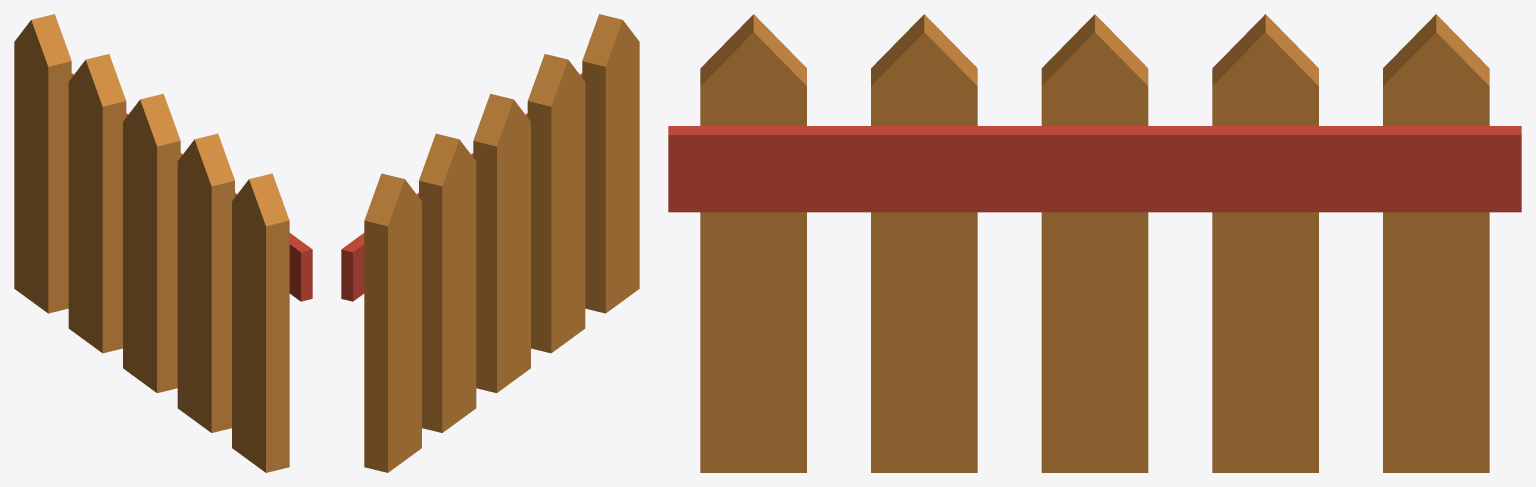
The model's file is Fence.fbx.
The picture shows the model from 3 angles, left to right: view 1: azimuth 30°, elevation 25°; view 2: azimuth 150°, elevation 25°; view 3: azimuth 270°, elevation 25°; orthographic projection. The views are drawn at different scales.
Visible parts, largest first — view 1: Cube.008, Cube, Cube.011, Cube.002, Cube.001; view 2: Cube.002, Cube.011, Cube, Cube.001, Cube.008; view 3: Cube.001, Cube.002, Cube.008, Cube, Cube.011.
Part boxes in pixels (left/top/right/bottom): Cube.008: left=232, top=173, right=312, bottom=472; Cube: left=68, top=54, right=128, bottom=353; Cube.011: left=177, top=133, right=236, bottom=432; Cube.002: left=14, top=14, right=73, bottom=313; Cube.001: left=123, top=93, right=182, bottom=393; Cube.002: left=341, top=173, right=421, bottom=472; Cube.011: left=525, top=54, right=585, bottom=353; Cube: left=417, top=133, right=476, bottom=432; Cube.001: left=471, top=93, right=530, bottom=393; Cube.008: left=580, top=14, right=639, bottom=313; Cube.001: left=1009, top=14, right=1180, bottom=472; Cube.002: left=1351, top=14, right=1521, bottom=472; Cube.008: left=668, top=14, right=838, bottom=472; Cube: left=1180, top=14, right=1350, bottom=472; Cube.011: left=839, top=14, right=1009, bottom=472.
Size of the model in its own units: 31 by 228 by 400.
